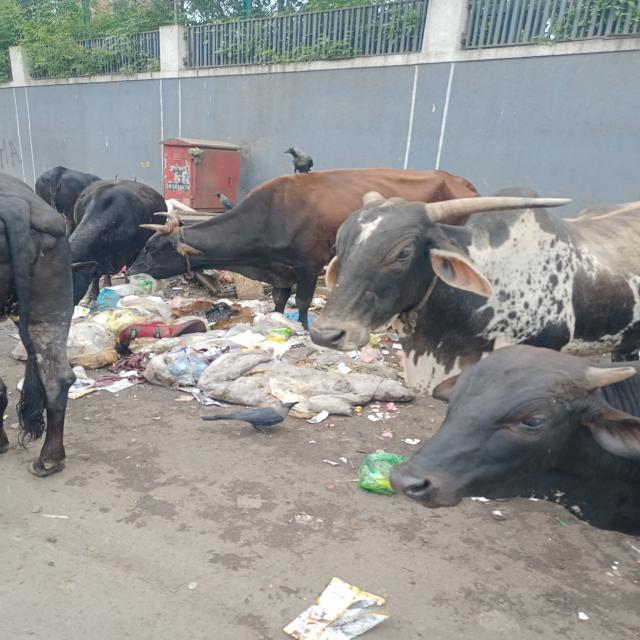garbage: (79, 282, 395, 412)
